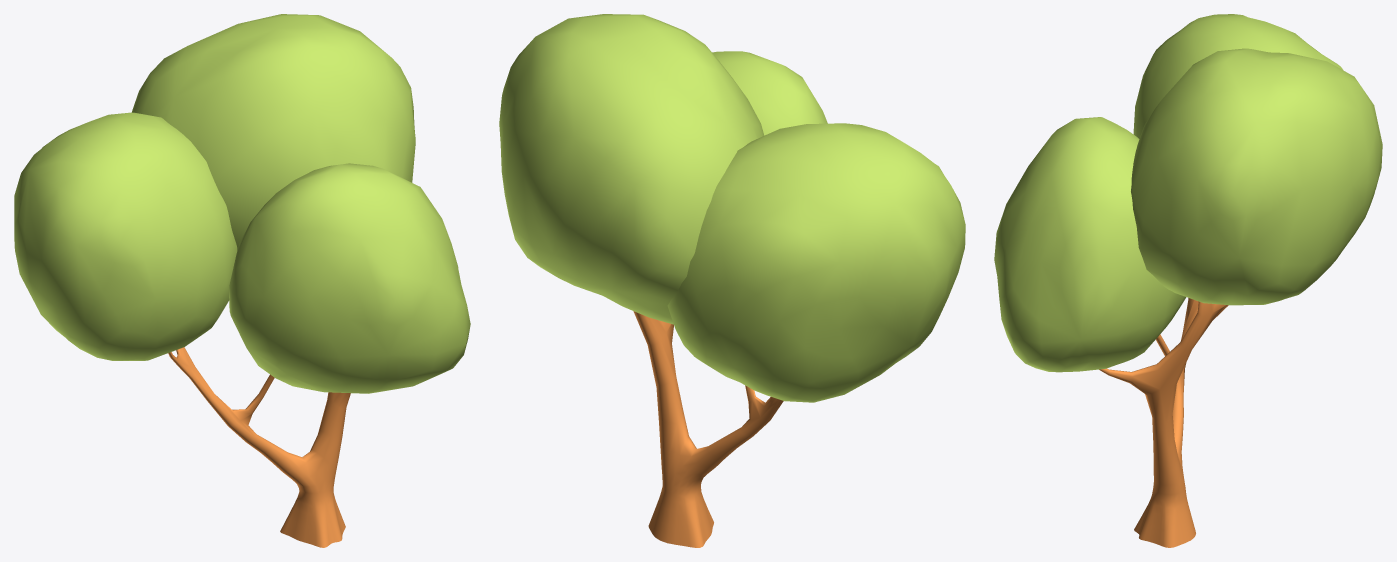
Rendered from BigTree_C.fbx.
The picture shows the model from 3 angles, left to right: view 1: azimuth 30°, elevation 25°; view 2: azimuth 150°, elevation 25°; view 3: azimuth 270°, elevation 25°; orthographic projection. The views are drawn at different scales.
Parts seen in each view (by area): view 1: Oak_Tree_l_03; view 2: Oak_Tree_l_03; view 3: Oak_Tree_l_03.
Boxes of the visible parts, x1,y1,x2,y2 form: Oak_Tree_l_03: [14, 14, 470, 547]; Oak_Tree_l_03: [499, 14, 965, 547]; Oak_Tree_l_03: [994, 14, 1382, 547].
Bounding box in the file's own units: 1056 × 1239 × 910.
